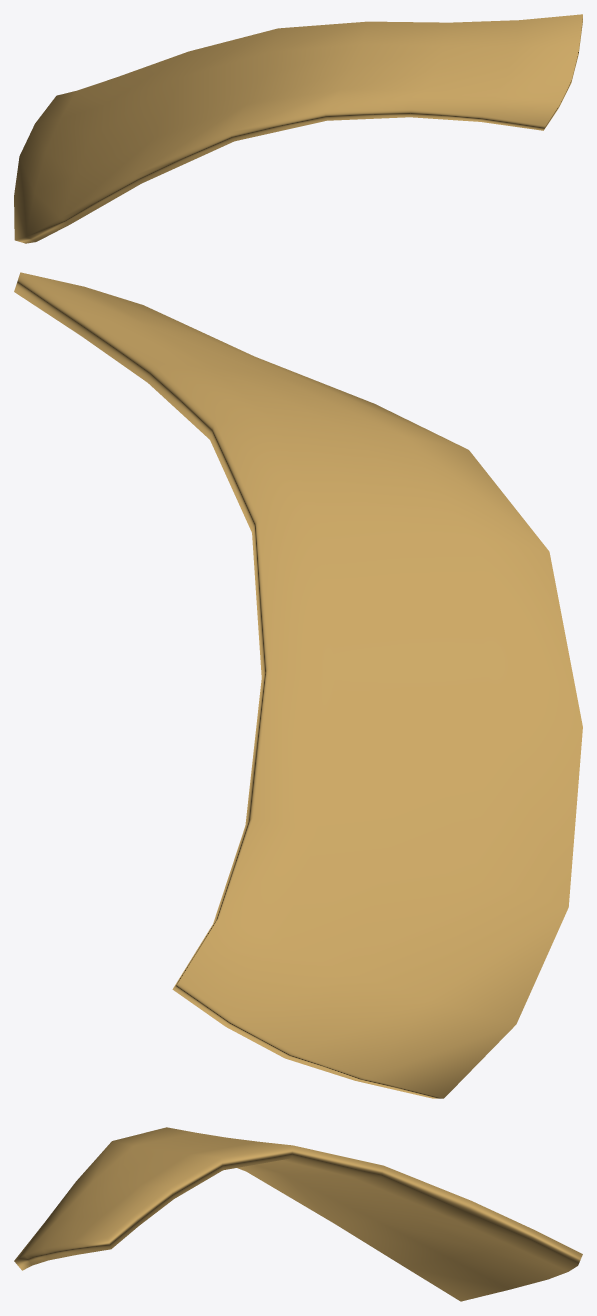
The picture shows the model from 3 angles, top to bottom: view 1: azimuth 30°, elevation 25°; view 2: azimuth 150°, elevation 25°; view 3: azimuth 270°, elevation 25°; orthographic projection. The views are drawn at different scales.
Parts seen in each view (by area): view 1: 左侧腓骨头后韧带; view 2: 左侧腓骨头后韧带; view 3: 左侧腓骨头后韧带.
Boxes of the visible parts, x1,y1,x2,y2 form: 左侧腓骨头后韧带: (14,14,582,243); 左侧腓骨头后韧带: (14,272,582,1098); 左侧腓骨头后韧带: (14,1127,582,1301).
Bounding box in the file's own units: 0.03 × 0.0172 × 0.0323.
